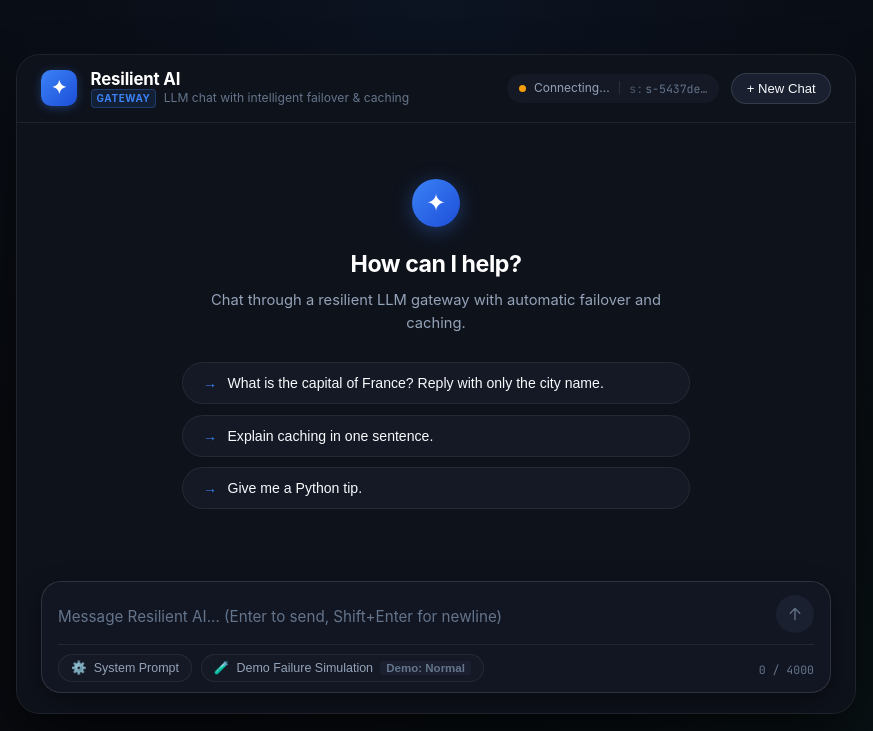
Test case: Resilient AI Frontend Component & Integration Tests › renders required metadata for LLM_CACHE hit with null key_id (Key —)
Replace the text in the text box with test id "chat-input" with "Same question" at (411, 618), box [58,602,764,634]
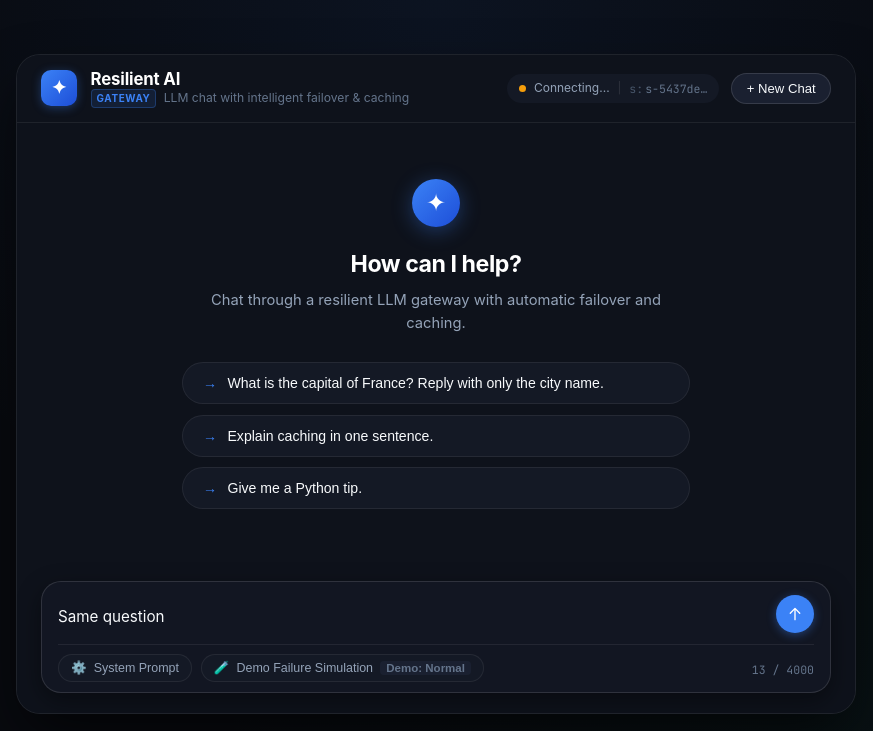
Click the button with test id "send-button" at (795, 614), box [776,596,814,634]
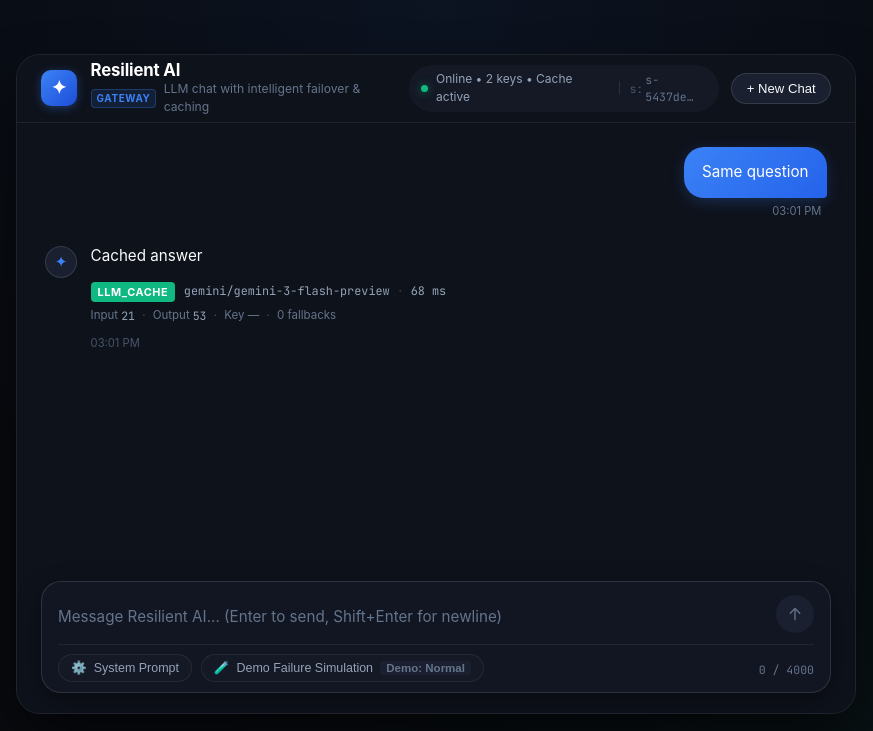
Expected: the element with test id "assistant-message" is shown, [45,246,446,350]
Expected: the text with test id "meta-source" reads "LLM_CACHE", [98,285,168,299]
Expected: the text with test id "meta-latency" reads "68 ms", [411,283,446,301]
